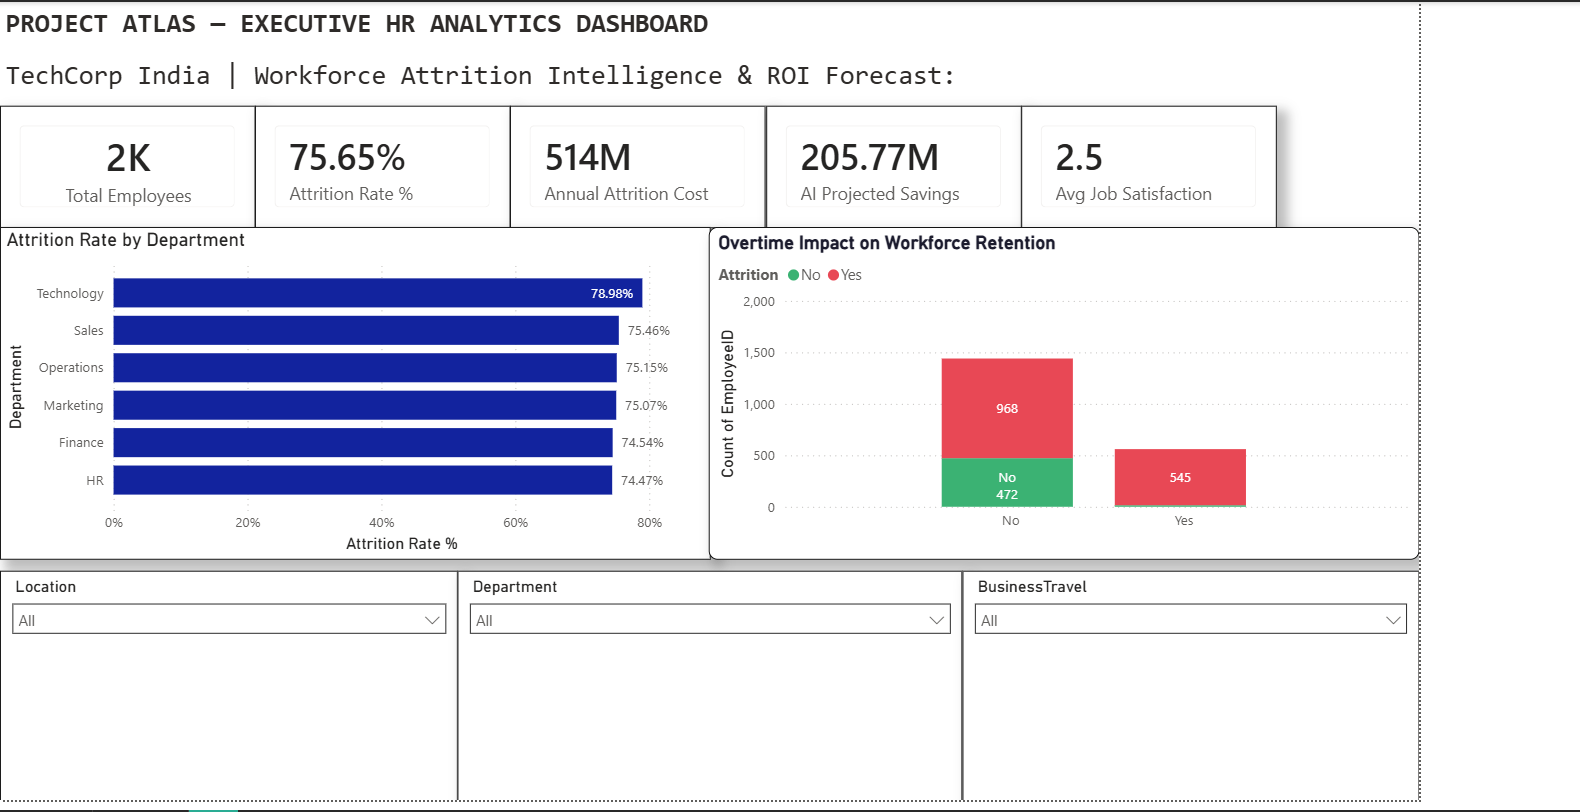

This screenshot's page, from the dashboard's own definition file:
{"tool":"powerbi","page":{"name":"Page 1","canvas":[1280,720],"ordinal":0},"visuals":[{"type":"textbox","box":[0,0,1280,93.3],"z":0},{"type":"cardVisual","fields":{"Data":["hr_data.Total Employees"]},"box":[0,93.3,230,110],"z":1000},{"type":"cardVisual","fields":{"Data":["hr_data.Attrition Rate %"]},"box":[230.1,93.3,230.1,110],"z":2000},{"type":"cardVisual","fields":{"Data":["hr_data.Annual Attrition Cost"]},"box":[460.3,93.3,230.1,110],"z":3000},{"type":"cardVisual","fields":{"Data":["hr_data.AI Projected Savings"]},"box":[690.4,93.3,230.1,110],"z":4000},{"type":"cardVisual","fields":{"Data":["hr_data.Avg Job Satisfaction"]},"box":[920.5,93.3,230.1,110],"z":5000},{"type":"clusteredBarChart","title":"Attrition Rate by Department","fields":{"Category":["hr_data.Department"],"Y":["hr_data.Attrition Rate %"]},"box":[0,202.8,640.6,299.8],"z":6000},{"type":"columnChart","title":"Overtime Impact on Workforce Retention","fields":{"Category":["hr_data.OverTime"],"Y":["CountNonNull(hr_data.EmployeeID)"],"Series":["hr_data.Attrition"]},"box":[639.4,202.8,640.6,300],"z":7000},{"type":"slicer","fields":{"Values":["hr_data.Location"]},"box":[0,512.5,413,207.7],"z":8000},{"type":"slicer","fields":{"Values":["hr_data.Department"]},"box":[413,512.5,455.3,207.7],"z":9000},{"type":"slicer","fields":{"Values":["hr_data.BusinessTravel"]},"box":[868.3,512.5,411.8,207.7],"z":10000}]}

Visuals, with their boxes in screenshot pixels (x1, y1, x2, y2):
textbox: <box>0,0,1417,104</box>
cardVisual - hr_data.Total Employees: <box>0,104,251,226</box>
cardVisual - hr_data.Attrition Rate %: <box>251,104,507,226</box>
cardVisual - hr_data.Annual Attrition Cost: <box>507,104,762,226</box>
cardVisual - hr_data.AI Projected Savings: <box>762,104,1018,226</box>
cardVisual - hr_data.Avg Job Satisfaction: <box>1018,104,1273,226</box>
"Attrition Rate by Department" clusteredBarChart: <box>0,225,707,558</box>
"Overtime Impact on Workforce Retention" columnChart: <box>706,225,1417,558</box>
slicer - hr_data.Location: <box>0,569,454,800</box>
slicer - hr_data.Department: <box>454,569,960,800</box>
slicer - hr_data.BusinessTravel: <box>960,569,1417,800</box>
